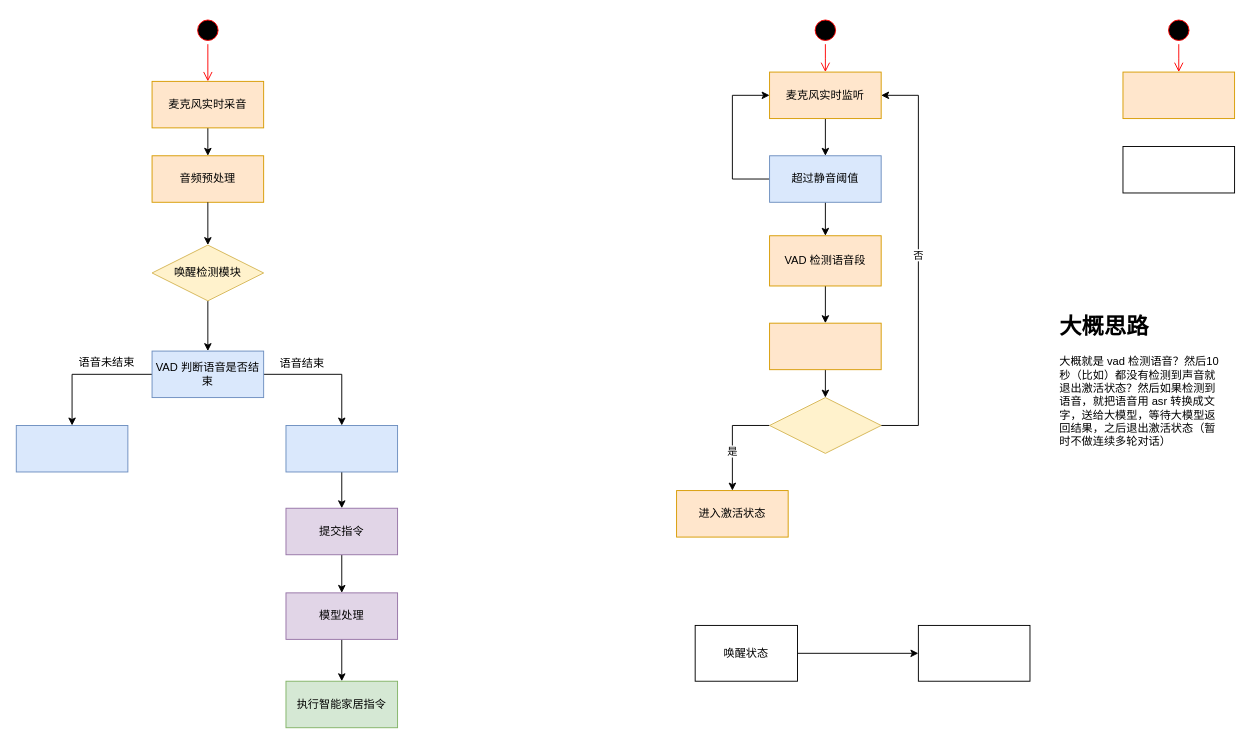
Image size: 1251x744. Some labels were removed from this diagram. The shapes that lost their labels are listed below. From the top down, each one's centre as x and y in pixels, then its label:
point 1178,95: 激活状态
point 825,346: KWS 检测关键字
point 825,425: 是否命中
point 71,448: 缓存音频片段
point 341,448: 转成文本指令
point 973,652: tts
